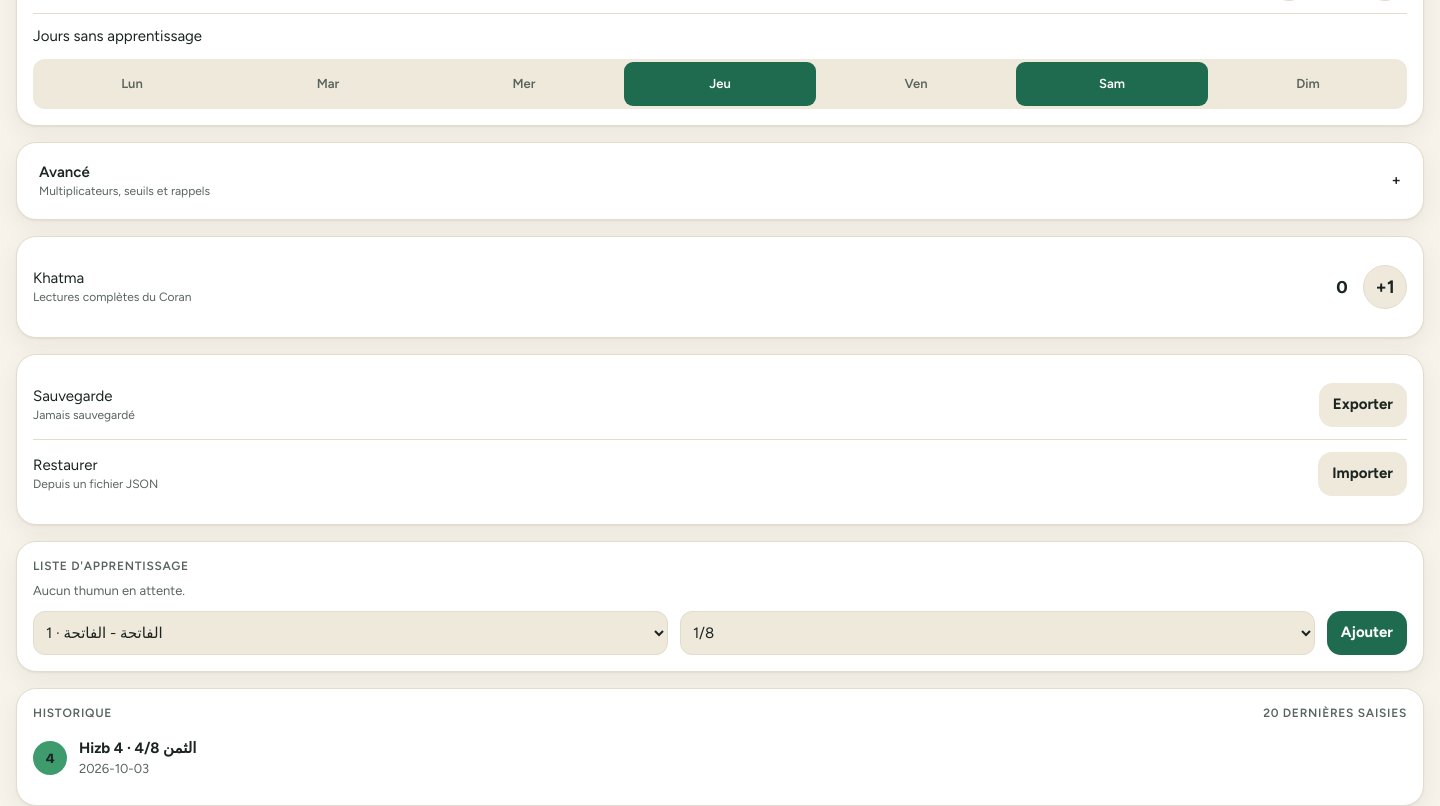
Scenario: Settings : historique › toucher une entrée ouvre les pastilles ; choisir une note envoie EDIT_ENTRY
(page scrolled)
Click the button "4 Hizb 4 · الثمن 4/8 2026-10-03" at (50, 758), box [33,728,1407,788]
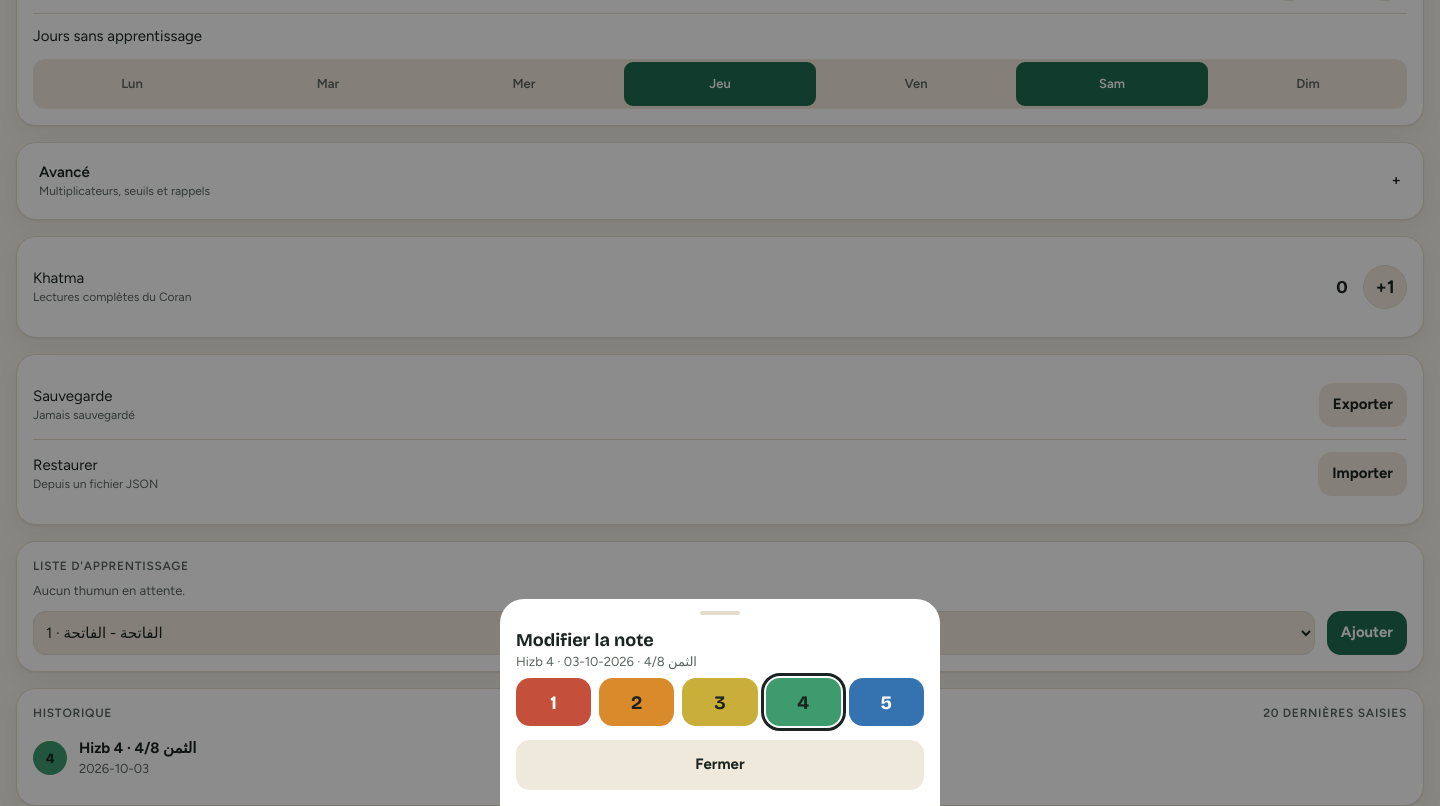
Click the button "2" at (637, 702), box [599,678,674,726]
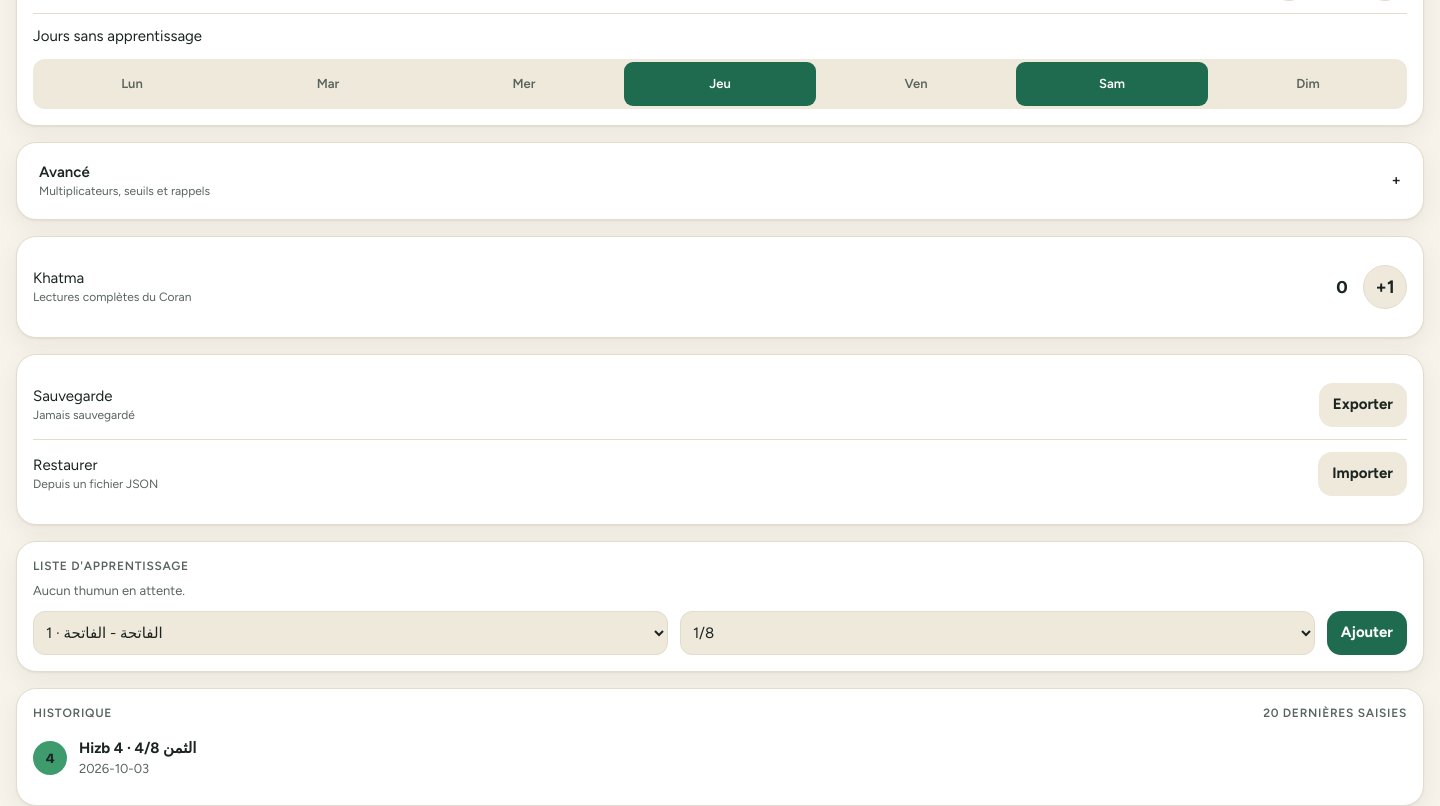
Check: the dialog is gone
